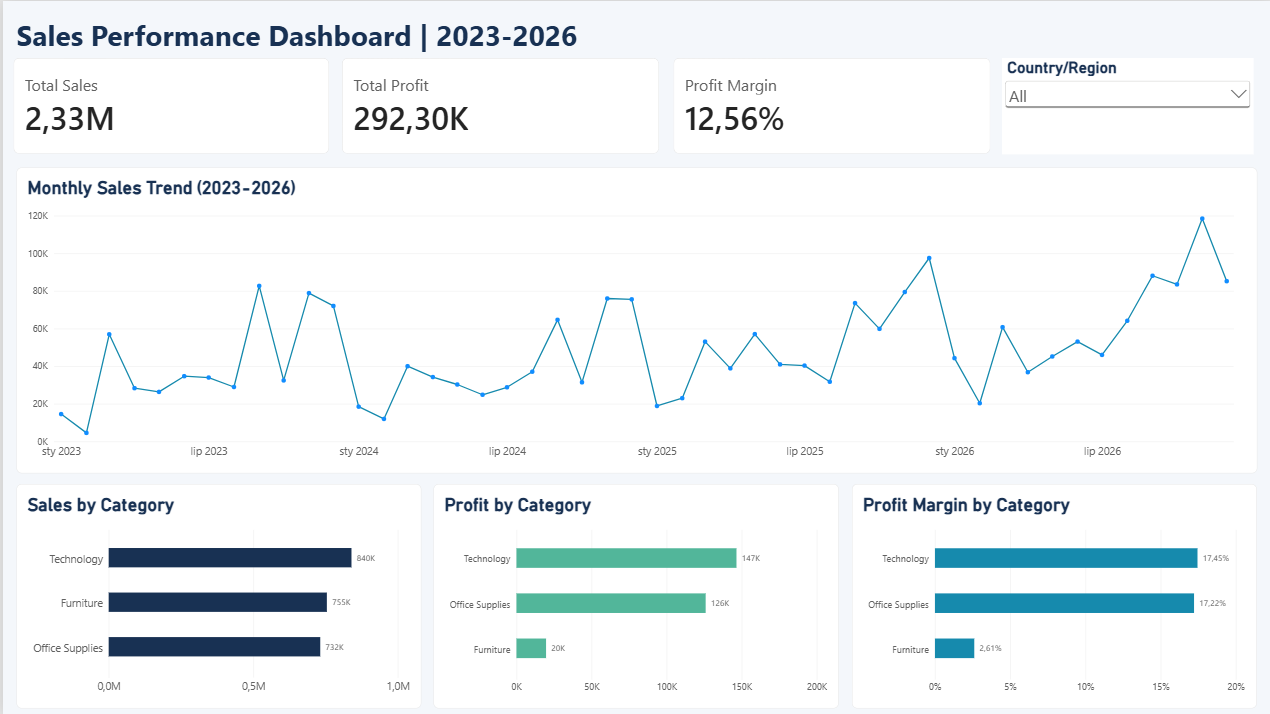

The page's visual inventory and layout, read from the dashboard file:
{"tool":"powerbi","page":{"name":"Sales Overview","canvas":[1920,1080],"ordinal":0},"visuals":[{"type":"cardVisual","fields":{"Data":["Orders.Total Profit"]},"box":[514.7,85.5,480.5,146],"z":0},{"type":"cardVisual","fields":{"Data":["Orders.Total Sales"]},"box":[15.9,85.5,478.5,146],"z":1},{"type":"cardVisual","fields":{"Data":["Orders.Profit Margin"]},"box":[1015.5,85.5,480.5,146],"z":2},{"type":"lineChart","title":"Monthly Sales Trend (2023-2026)","fields":{"Category":["Calendar.YearMonthDate"],"Y":["Orders.Total Sales"]},"box":[20,253.3,1880,463.3],"z":3},{"type":"clusteredBarChart","title":"Sales by Category","fields":{"Category":["Orders.Category"],"Y":["Orders.Total Sales"]},"box":[20.2,730.8,613,340],"z":4},{"type":"clusteredBarChart","title":"Profit by Category","fields":{"Category":["Orders.Category"],"Y":["Orders.Total Profit"]},"box":[653.2,730.8,614,340],"z":5},{"type":"clusteredBarChart","title":"Profit Margin by Category","fields":{"Category":["Orders.Category"],"Y":["Orders.Profit Margin"]},"box":[1287.2,730.8,613,340],"z":6},{"type":"slicer","fields":{"Values":["Orders.Country/Region"]},"box":[1514.3,85.5,381.2,146],"z":7},{"type":"textbox","box":[20,23.3,1900,63.3],"z":8}]}

Visuals, with their boxes in screenshot pixels (x1, y1, x2, y2), scaled from the page's 1920x1080 canvas onto the 1270x714 screenshot:
cardVisual - Orders.Total Profit: box=[340, 57, 658, 153]
cardVisual - Orders.Total Sales: box=[11, 57, 327, 153]
cardVisual - Orders.Profit Margin: box=[672, 57, 990, 153]
"Monthly Sales Trend (2023-2026)" lineChart: box=[13, 167, 1257, 474]
"Sales by Category" clusteredBarChart: box=[13, 483, 419, 708]
"Profit by Category" clusteredBarChart: box=[432, 483, 838, 708]
"Profit Margin by Category" clusteredBarChart: box=[851, 483, 1257, 708]
slicer - Orders.Country/Region: box=[1002, 57, 1254, 153]
textbox: box=[13, 15, 1269, 57]
